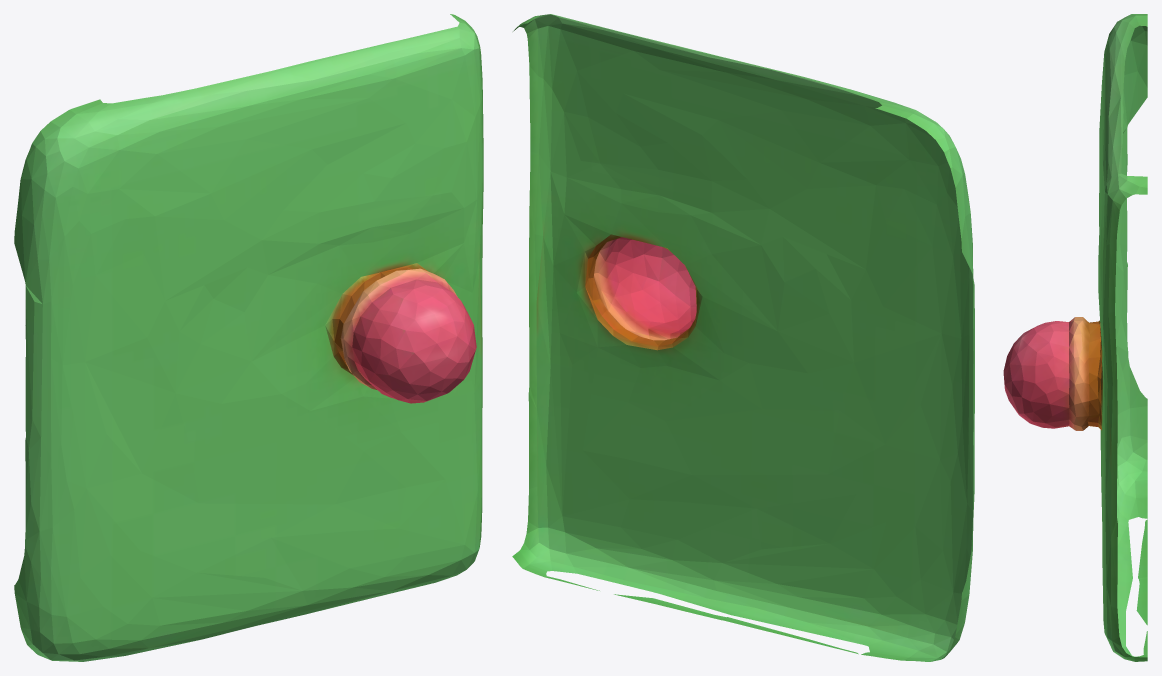
File: door_left.glb
3 views of the same model, side by side, from view 1: azimuth 30°, elevation 25°; view 2: azimuth 150°, elevation 25°; view 3: azimuth 270°, elevation 25° (orthographic). The views are drawn at different scales.
Parts seen in each view (by area): view 1: source_surface_0; view 2: source_surface_0; view 3: source_surface_0.
Boxes of the visible parts, <box> form: source_surface_0: <box>14,14,483,661</box>; source_surface_0: <box>512,14,974,661</box>; source_surface_0: <box>1003,14,1147,661</box>.
Size of the model in its own units: 0.2057 by 0.2404 by 0.0646.
1 material, 1 textured.
